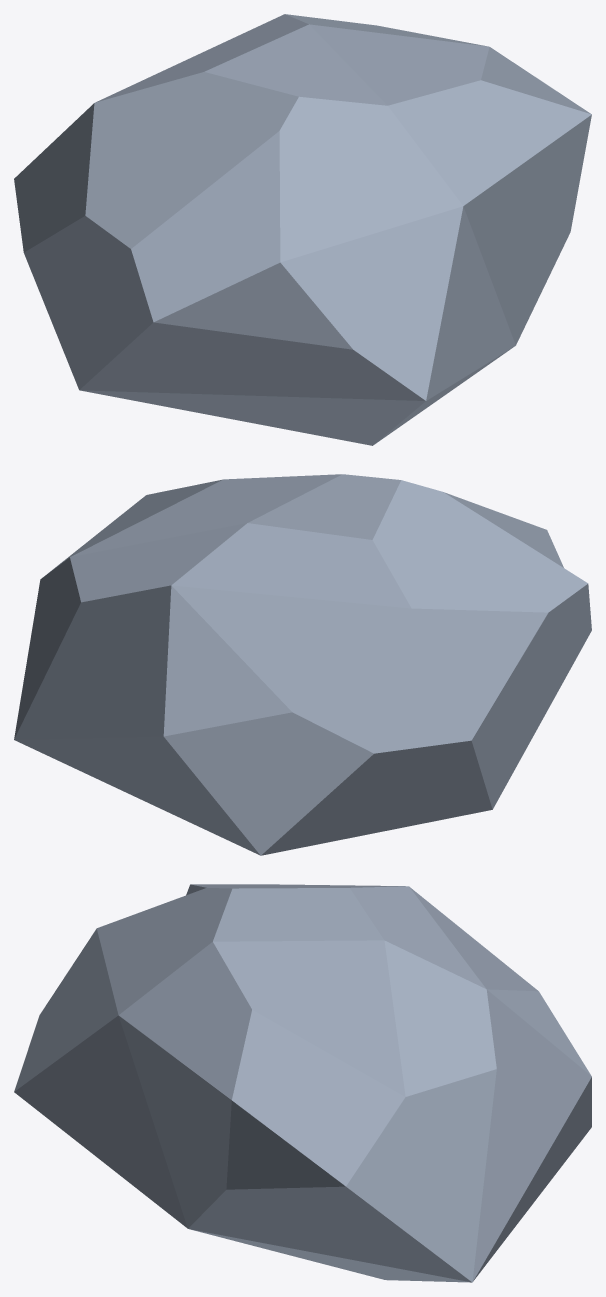
The model's file is rock1.fbx.
3 renders of one model, top to bottom at view 1: azimuth 30°, elevation 25°; view 2: azimuth 150°, elevation 25°; view 3: azimuth 270°, elevation 25°, orthographic. The views are drawn at different scales.
Visible parts, largest first — view 1: Icosphere.001; view 2: Icosphere.001; view 3: Icosphere.001.
Part boxes in pixels (x1=…): Icosphere.001: x1=14, y1=14, x2=591, y2=445; Icosphere.001: x1=14, y1=474, x2=591, y2=855; Icosphere.001: x1=14, y1=884, x2=591, y2=1282.
Size of the model in its own units: 268 by 156 by 271.
